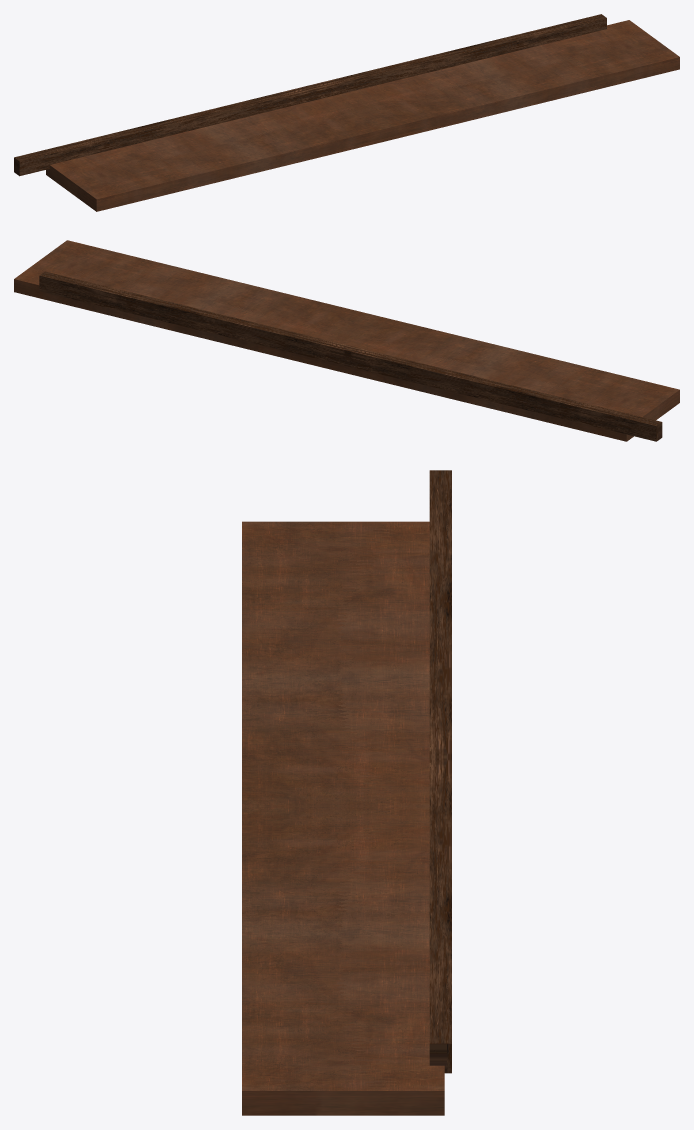
File: Piso.fbx
3 views of the same model, one above another, from view 1: azimuth 30°, elevation 25°; view 2: azimuth 150°, elevation 25°; view 3: azimuth 270°, elevation 25° (orthographic). The views are drawn at different scales.
Visible parts, largest first — view 1: Piso, BaranddalPiso; view 2: Piso, BaranddalPiso; view 3: Piso, BaranddalPiso.
Boxes of the visible parts, bbox=[...] form: Piso: bbox=[46, 20, 679, 211]; BaranddalPiso: bbox=[14, 14, 606, 176]; Piso: bbox=[14, 240, 679, 441]; BaranddalPiso: bbox=[39, 271, 662, 441]; Piso: bbox=[242, 521, 444, 1115]; BaranddalPiso: bbox=[429, 470, 451, 1073].
Bounding box in the file's own units: 6115 × 224 × 905.
Materials: 2 (2 with a texture image).
